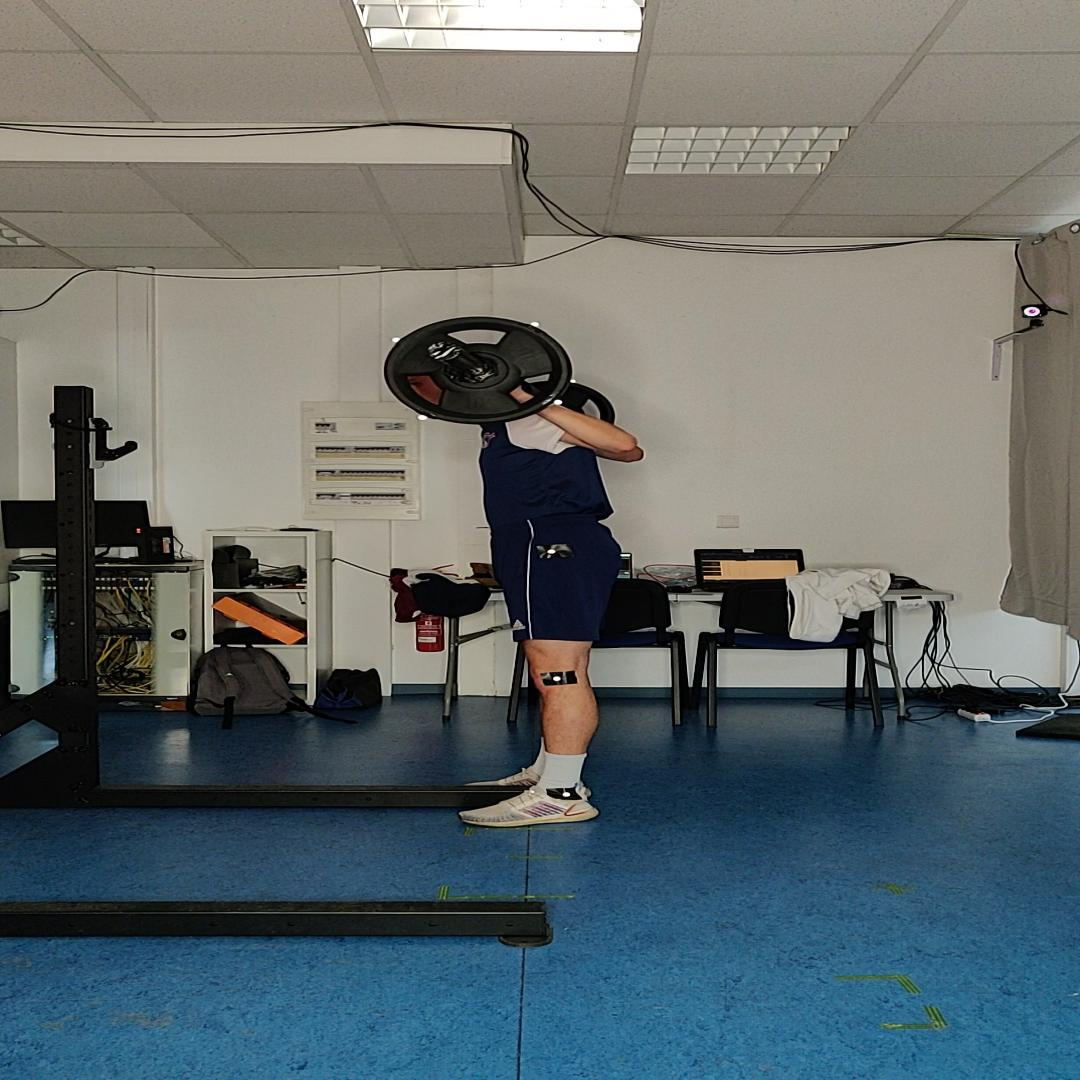Bar: (428, 341, 462, 361)
Barbell: (384, 316, 572, 425)
